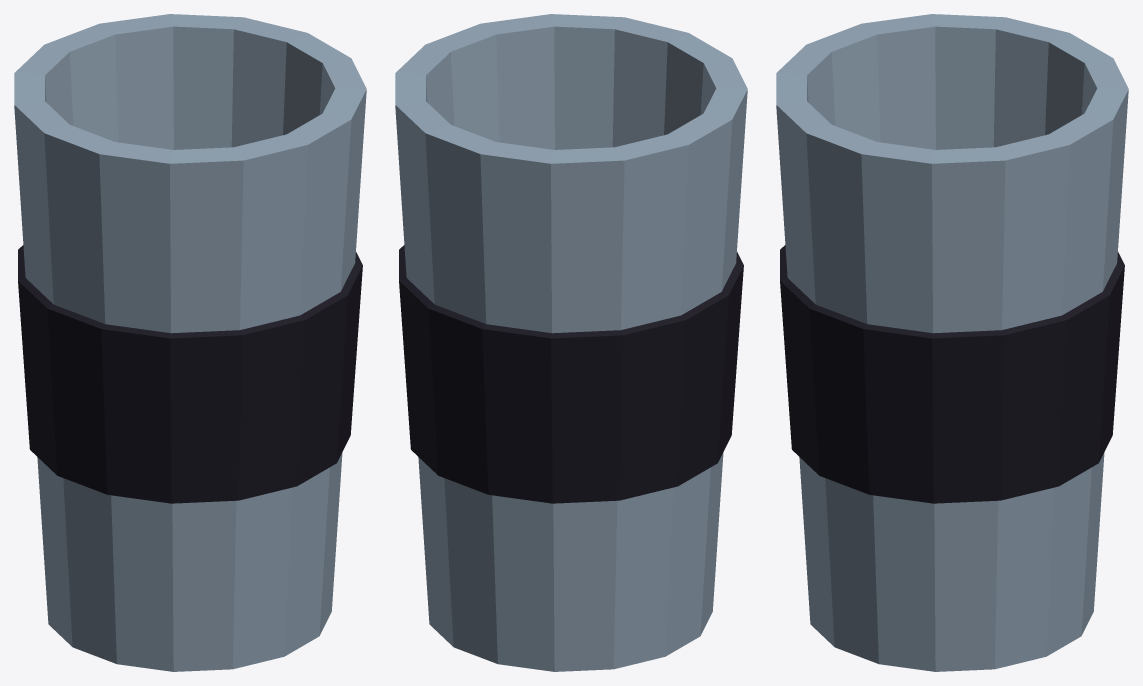
File: SB_Cup_01.fbx
The picture shows the model from 3 angles, left to right: view 1: azimuth 30°, elevation 25°; view 2: azimuth 150°, elevation 25°; view 3: azimuth 270°, elevation 25°; orthographic projection.
Parts seen in each view (by area): view 1: SB_Cup_01; view 2: SB_Cup_01; view 3: SB_Cup_01.
Part boxes in pixels (<box>): SB_Cup_01: <box>14,14,366,671</box>; SB_Cup_01: <box>395,14,747,671</box>; SB_Cup_01: <box>776,14,1128,671</box>.
Size of the model in its own units: 8.95 by 14.58 by 8.9.
